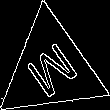M_SE: (20, 35, 82, 102)
